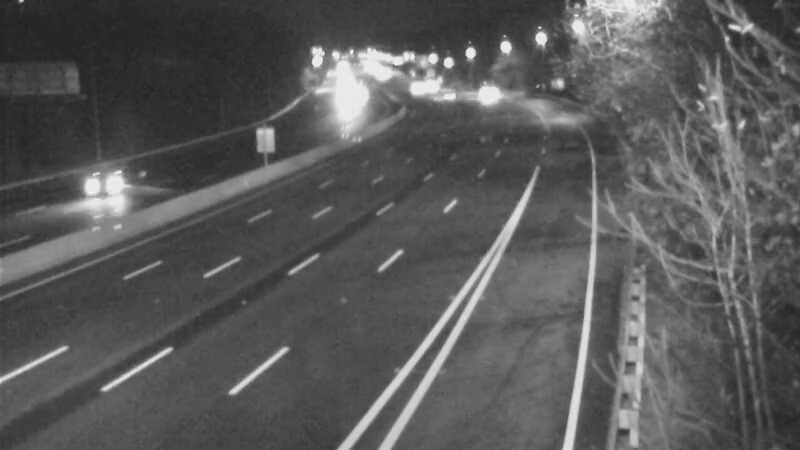vehicle: (60, 143, 140, 223), (391, 62, 441, 112), (421, 72, 471, 122), (459, 67, 509, 117)
